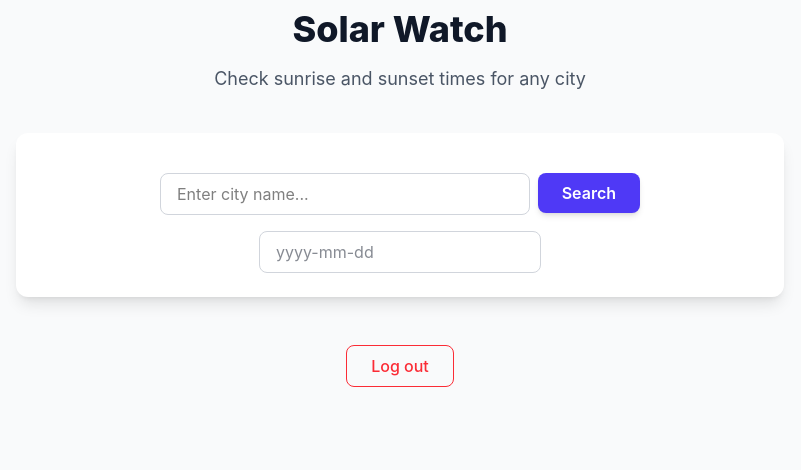
SolarWatchPage › performs error on empty search
Click the button "Search" at (589, 193), box [538,173,640,213]
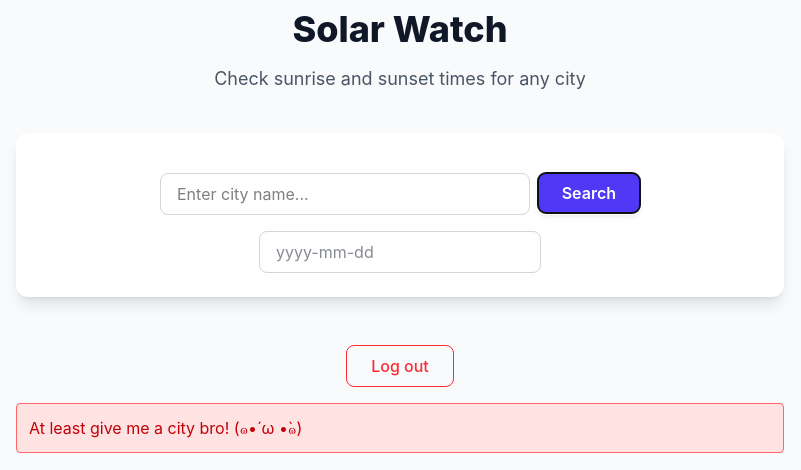
Now the text "At least give me a city bro! (๑•́ ω •̀๑)" is shown, box [29,418,302,438]
